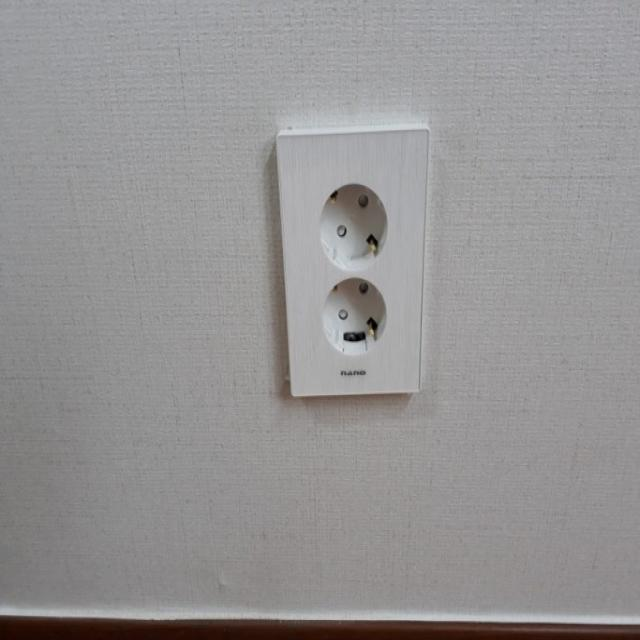typeb: (267, 99, 443, 411)
